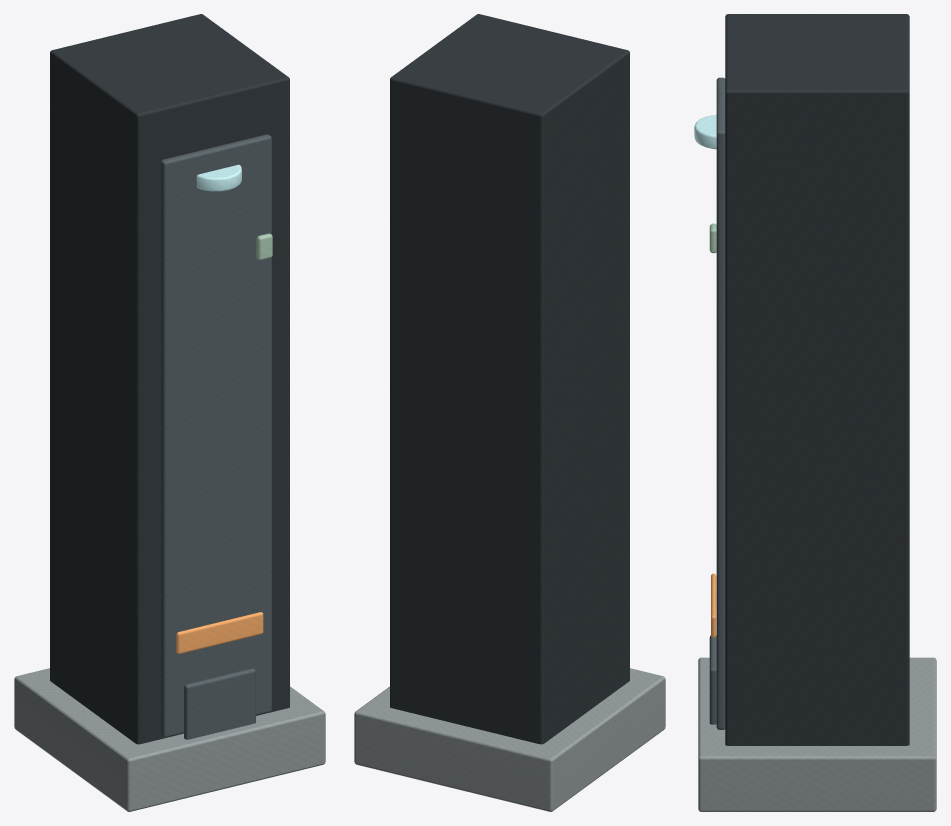
Rendered from SecurityPillar.glb.
3 views of the same model, side by side, from view 1: azimuth 30°, elevation 25°; view 2: azimuth 150°, elevation 25°; view 3: azimuth 270°, elevation 25° (orthographic). The views are drawn at different scales.
Parts seen in each view (by area): view 1: SecurityPillar_Mesh; view 2: SecurityPillar_Mesh; view 3: SecurityPillar_Mesh.
Part boxes in pixels (x1,y1,x2,y2): SecurityPillar_Mesh: (14,14,325,811); SecurityPillar_Mesh: (354,14,665,811); SecurityPillar_Mesh: (694,14,936,811).
Bounding box in the file's own units: 0.62 × 2.04 × 0.63.
Materials: 6 (6 with a texture image).
